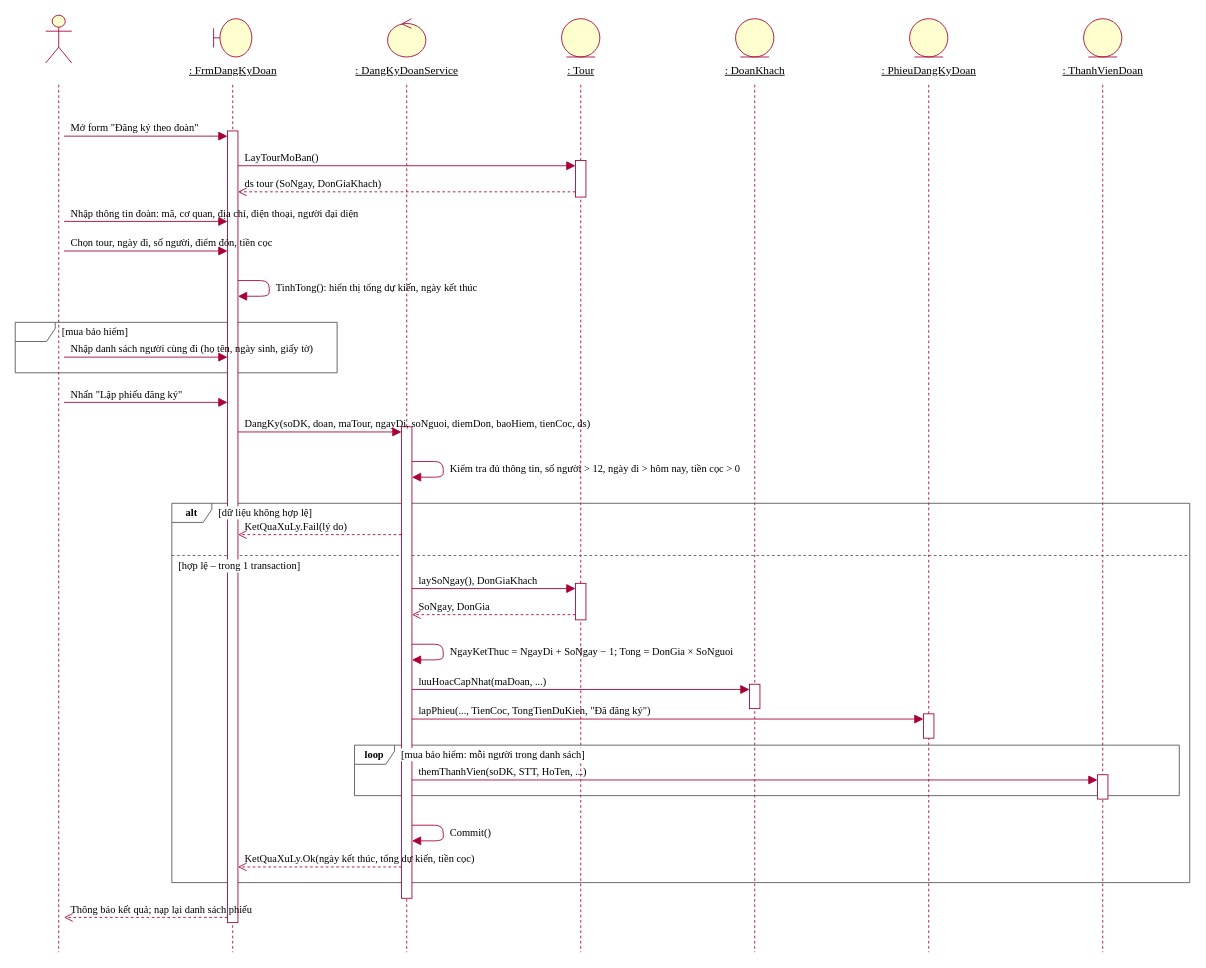
This 1206x968 diagram has some shape labels left out. Each missing label, with the box of its shape:
: NV kinh doanh: (45, 14, 72, 63)
opt: (14, 321, 337, 373)
